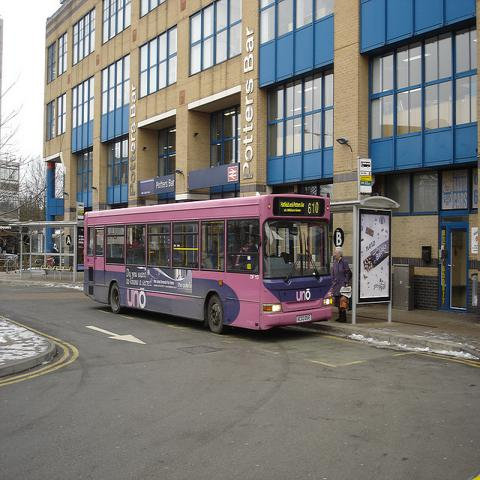bus: (82, 196, 332, 332)
